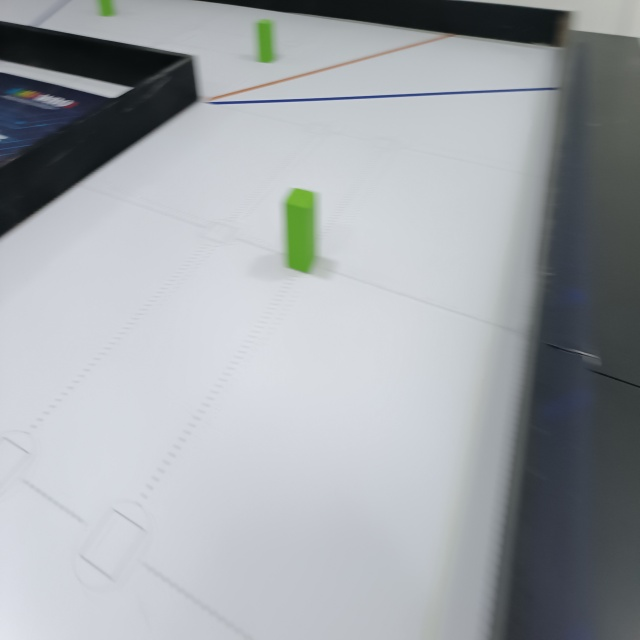blue line: (198, 83, 566, 106)
green rectangular prism: (279, 186, 323, 272), (257, 21, 275, 64)
orange line: (210, 35, 452, 99)
